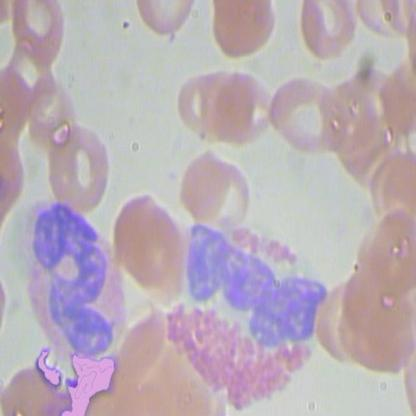RBC: (264, 69, 350, 160), (109, 184, 175, 287), (45, 120, 110, 211), (364, 205, 415, 299), (204, 1, 279, 60), (202, 155, 256, 231), (220, 69, 274, 145), (28, 73, 82, 148), (179, 144, 233, 219), (174, 60, 228, 135), (200, 65, 254, 140), (10, 1, 65, 68), (296, 1, 358, 59), (368, 66, 415, 139), (371, 151, 415, 225), (130, 1, 202, 37)
WBC: (155, 219, 332, 407), (15, 198, 133, 365)
